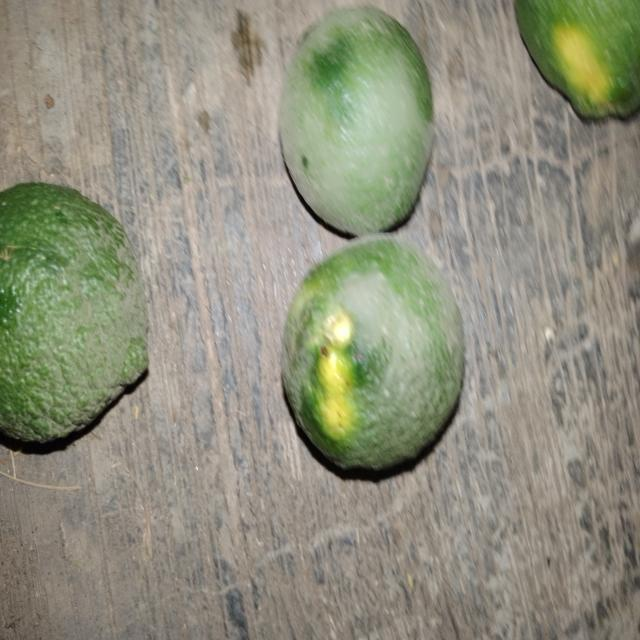Unripe: (276, 236, 467, 490), (272, 6, 434, 230)
